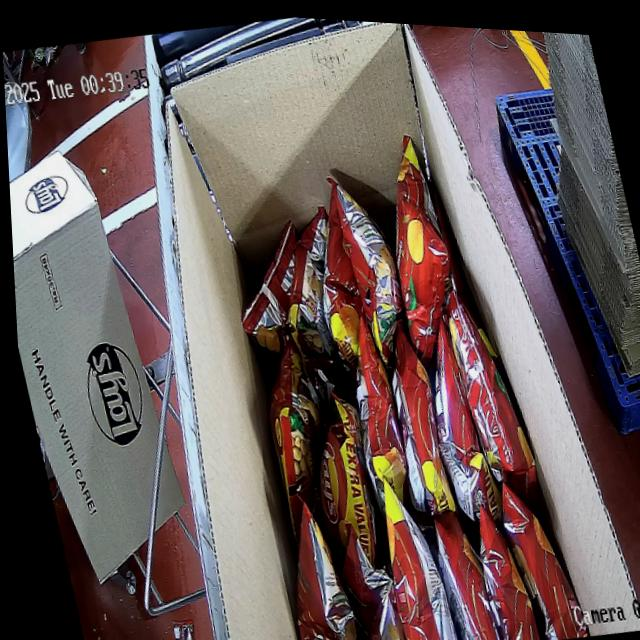MASALA: (186, 111, 590, 640)
